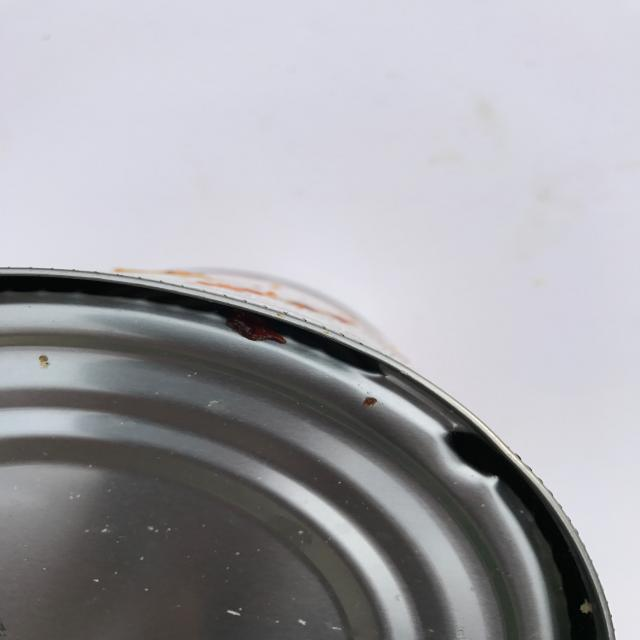metal: (1, 265, 616, 639)
